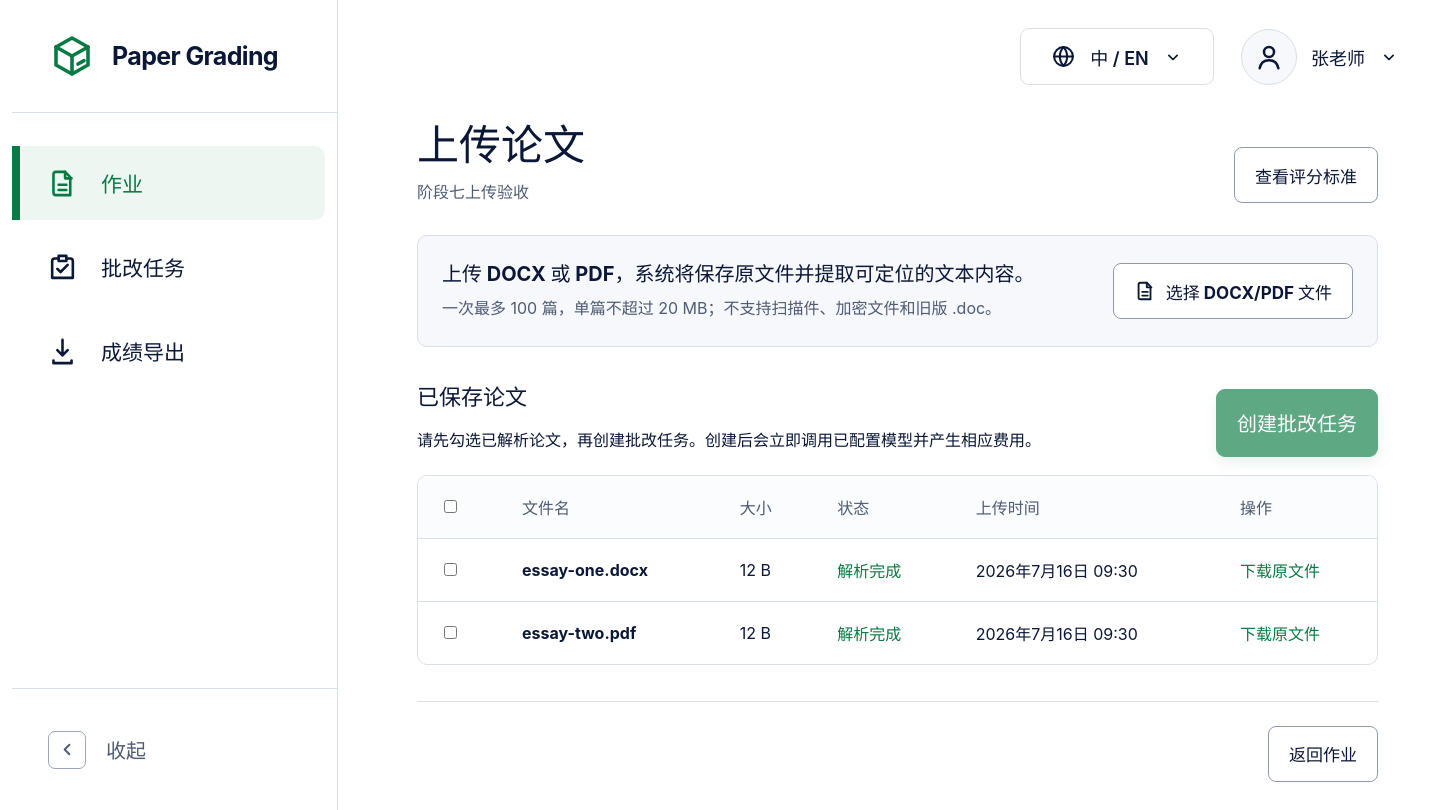
阶段七论文上传 › selects ready papers and creates a grading job without manual UUID input
Check: the text "essay-one.docx" is shown, box [522,560,648,580]
Check: the text "请先勾选已解析论文，再创建批改任务。创建后会立即调用已配置模型并产生相应费用。" is shown, box [417,427,1041,451]
What coordinates should you click on to do the following:
click the checkbox named "选择全部可批改论文"
I would click on:
 (450, 506)
Its box is [444,500,457,513].
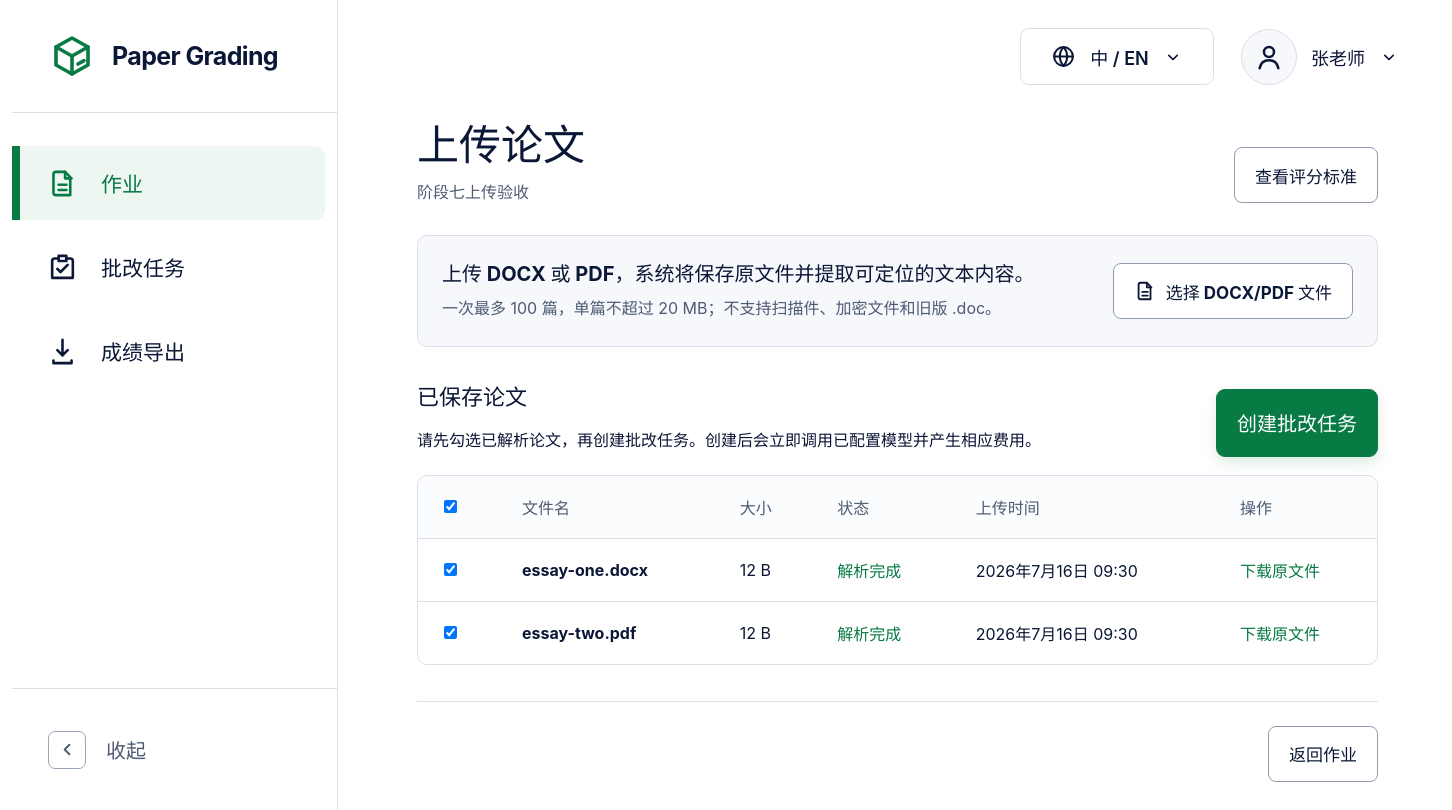
What coordinates should you click on to do the following:
click the button "创建批改任务"
I would click on:
 (1297, 423)
Its box is [1216,389,1378,457].
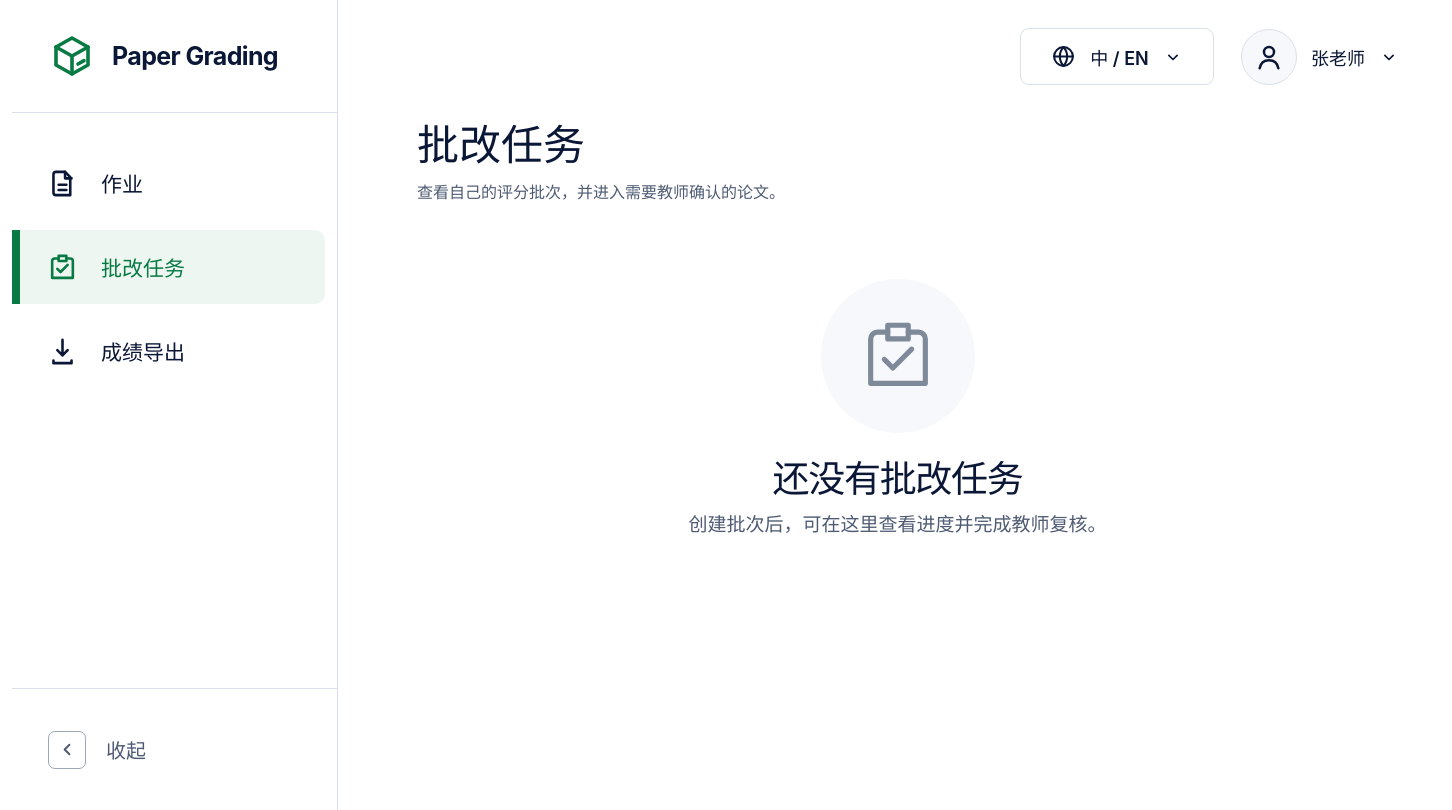
Check: the heading "批改任务" is shown, box [417,119,585,170]
